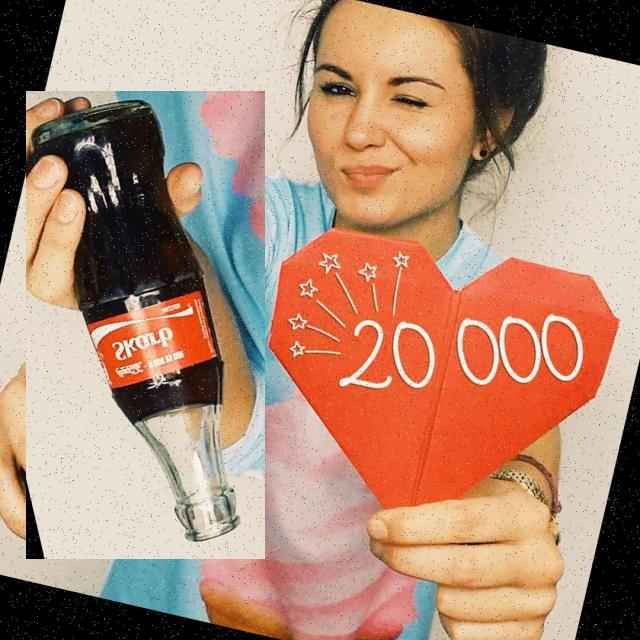coca-cola: (26, 91, 265, 560)
